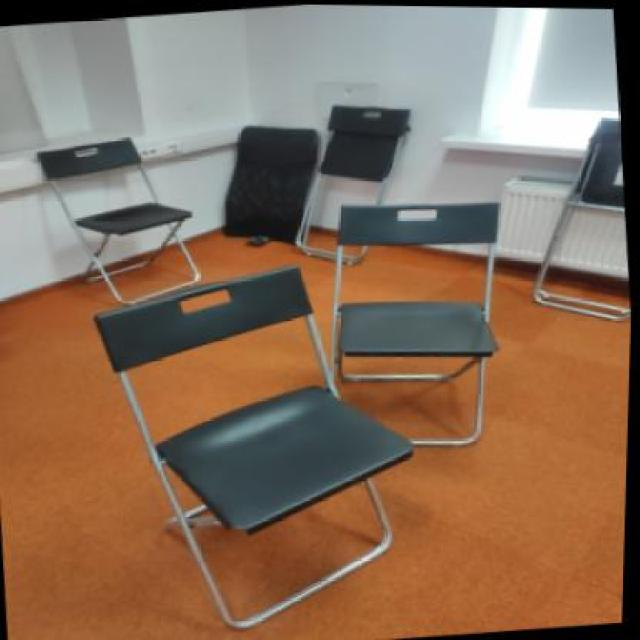chair: (66, 251, 422, 638), (310, 178, 510, 462), (15, 116, 231, 316)
